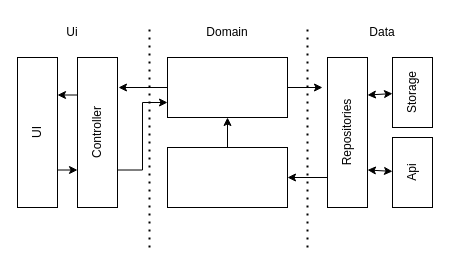
This 450x266 diagram has some shape labels left out. Here are the shapes that lost their labels. From the top down, the box of each, then its label:
(166, 56, 288, 118): Buisness logic
(166, 146, 288, 208): Model
